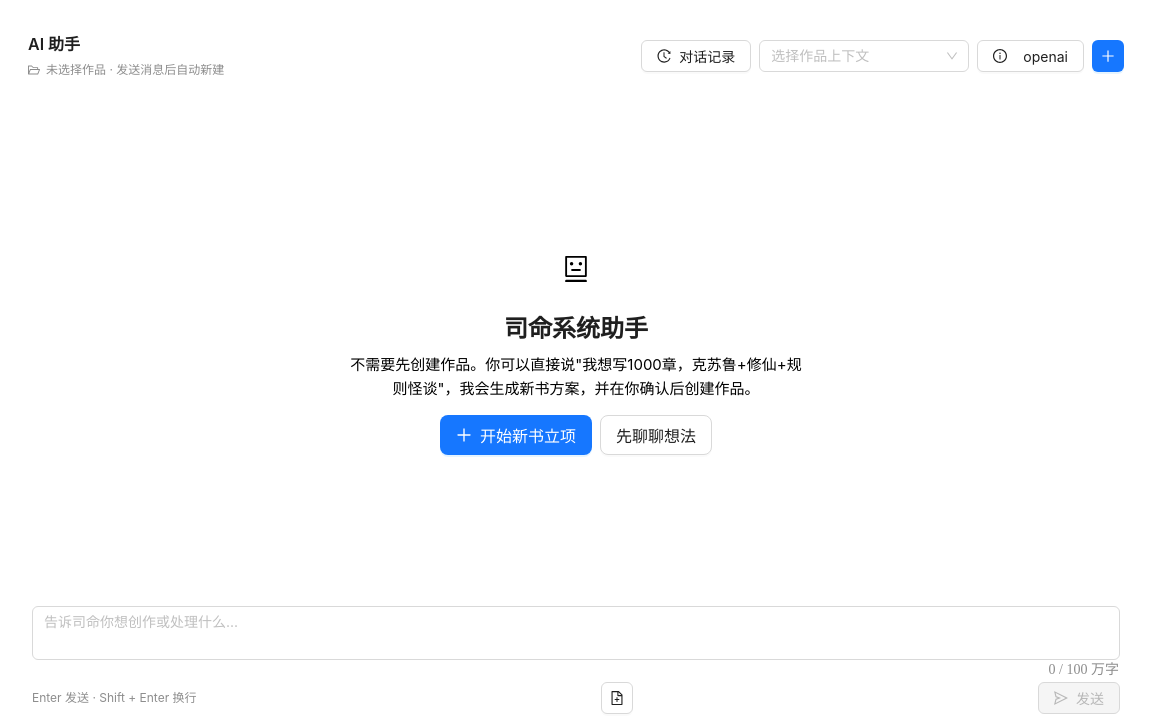
Test case: GuiAssistantChat new-book handoff › creates a creation context before the first unbound Agent turn
Type "我要创建新的小说" into the text box named "给司命的消息". click: (576, 633)
box: [33,607,1119,659]
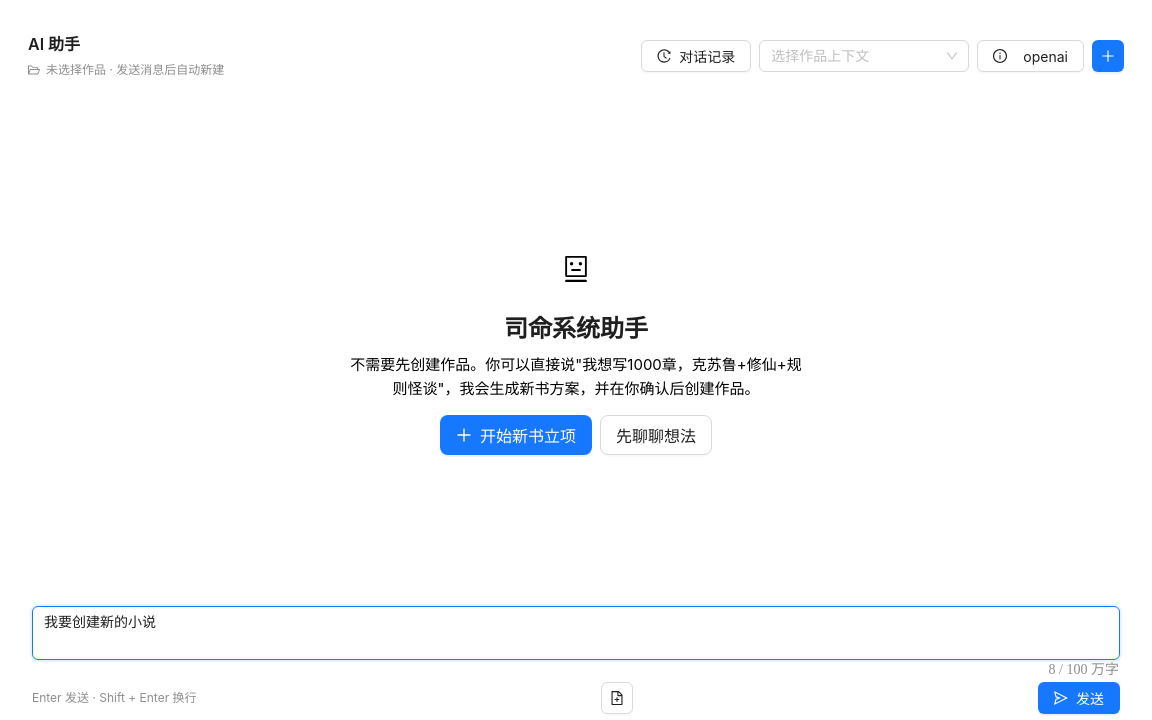
Click the button "发送". click: (1079, 698)
box: [1038,682,1120,714]
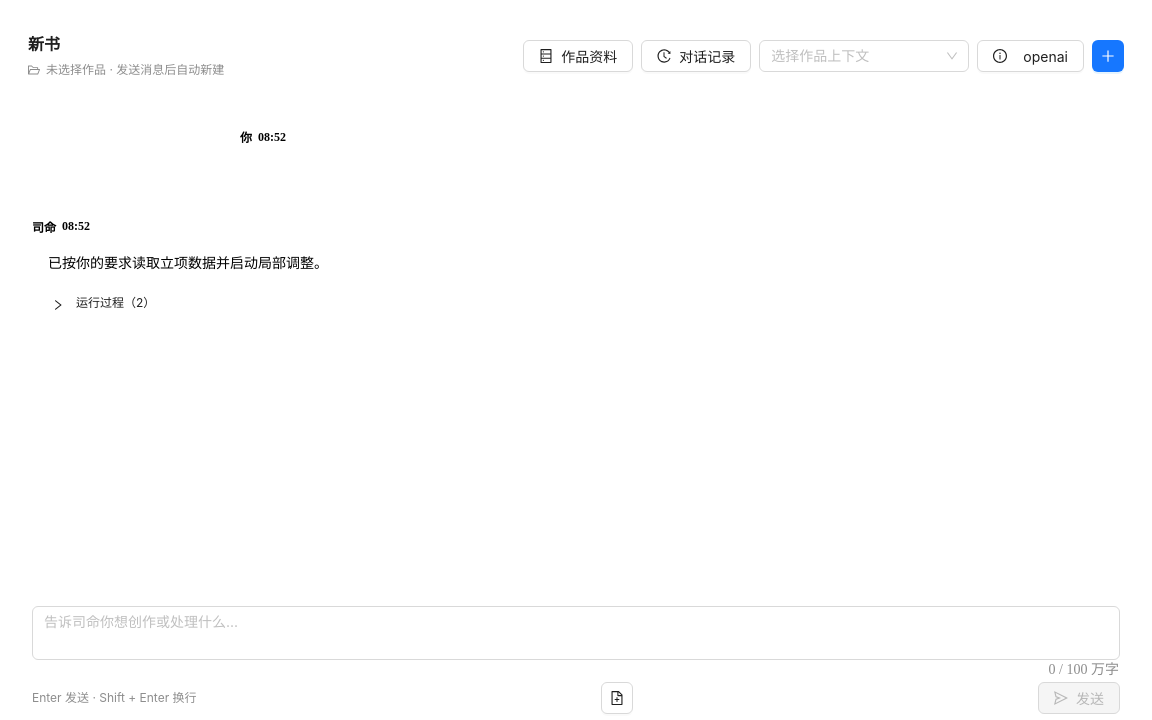
Check: the text "已按你的要求读取立项数据并启动局部调整。" is shown, box [48,256,328,271]
Click the button "运行过程（2）". click: (104, 303)
box: [52,295,155,311]
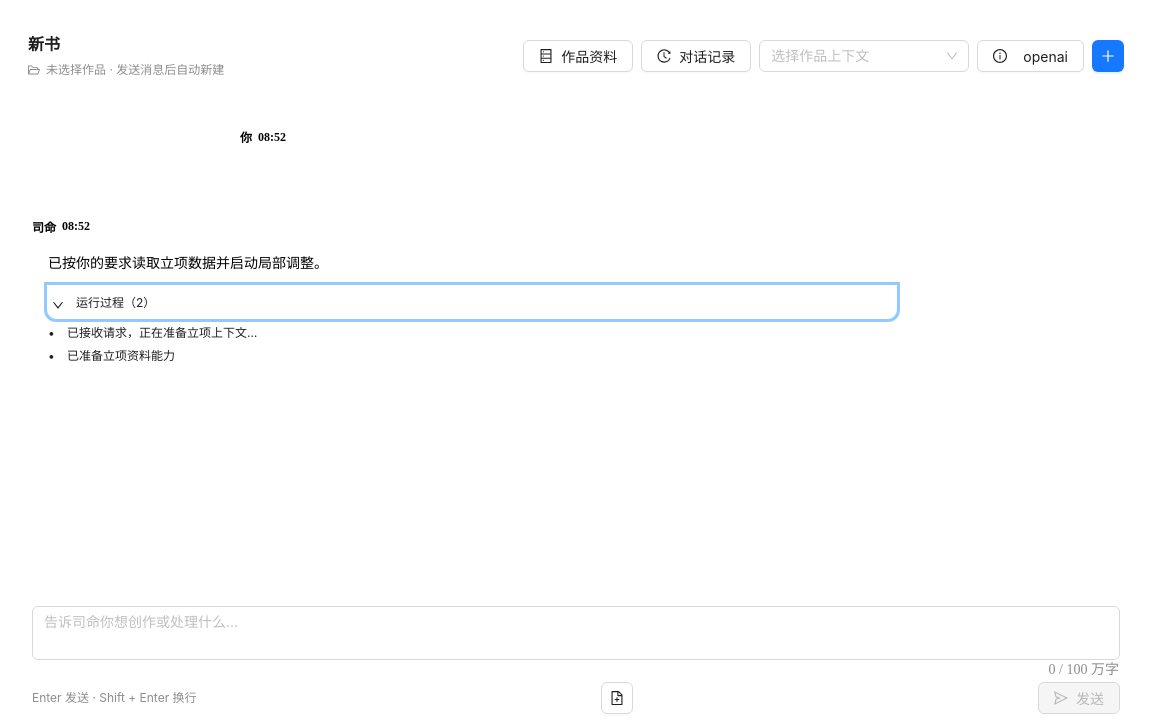
Check: the text "已准备立项资料能力" is shown, box [67,348,175,363]
